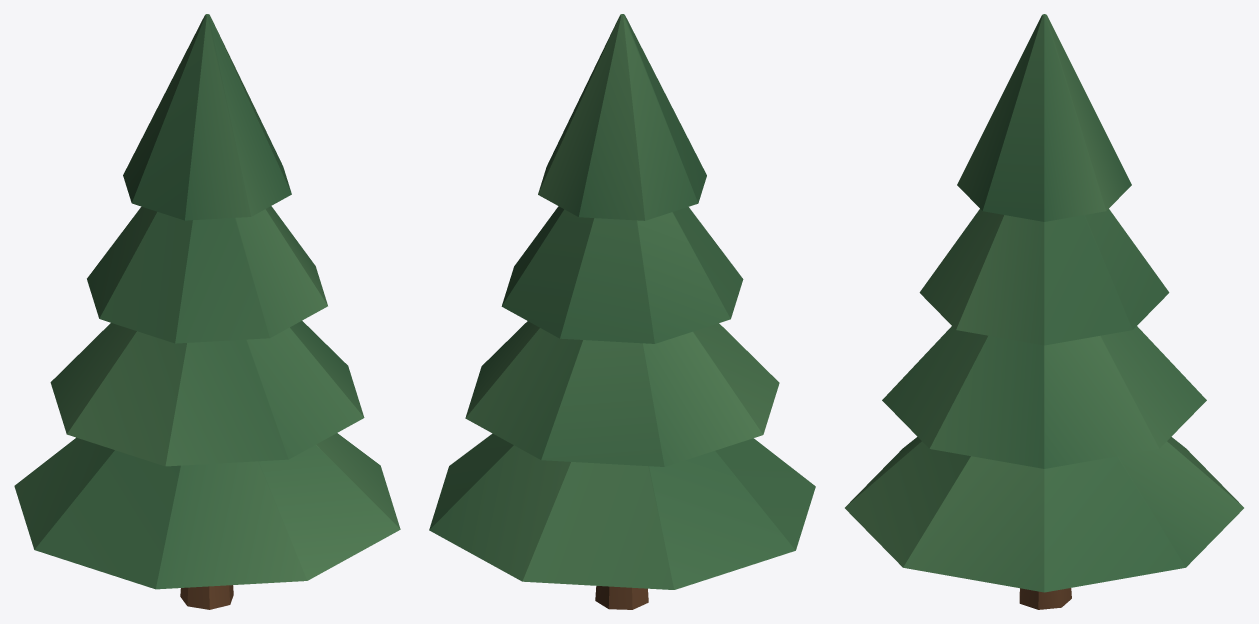
The model's file is forest_fir.glb.
3 views of the same model, side by side, from view 1: azimuth 30°, elevation 25°; view 2: azimuth 150°, elevation 25°; view 3: azimuth 270°, elevation 25° (orthographic).
Parts seen in each view (by area): view 1: Fir; view 2: Fir; view 3: Fir.
Boxes of the visible parts, <box> form: Fir: <box>14,14,400,609</box>; Fir: <box>429,14,815,609</box>; Fir: <box>845,14,1243,609</box>.
Size of the model in its own units: 3.2 by 5.15 by 3.2.
